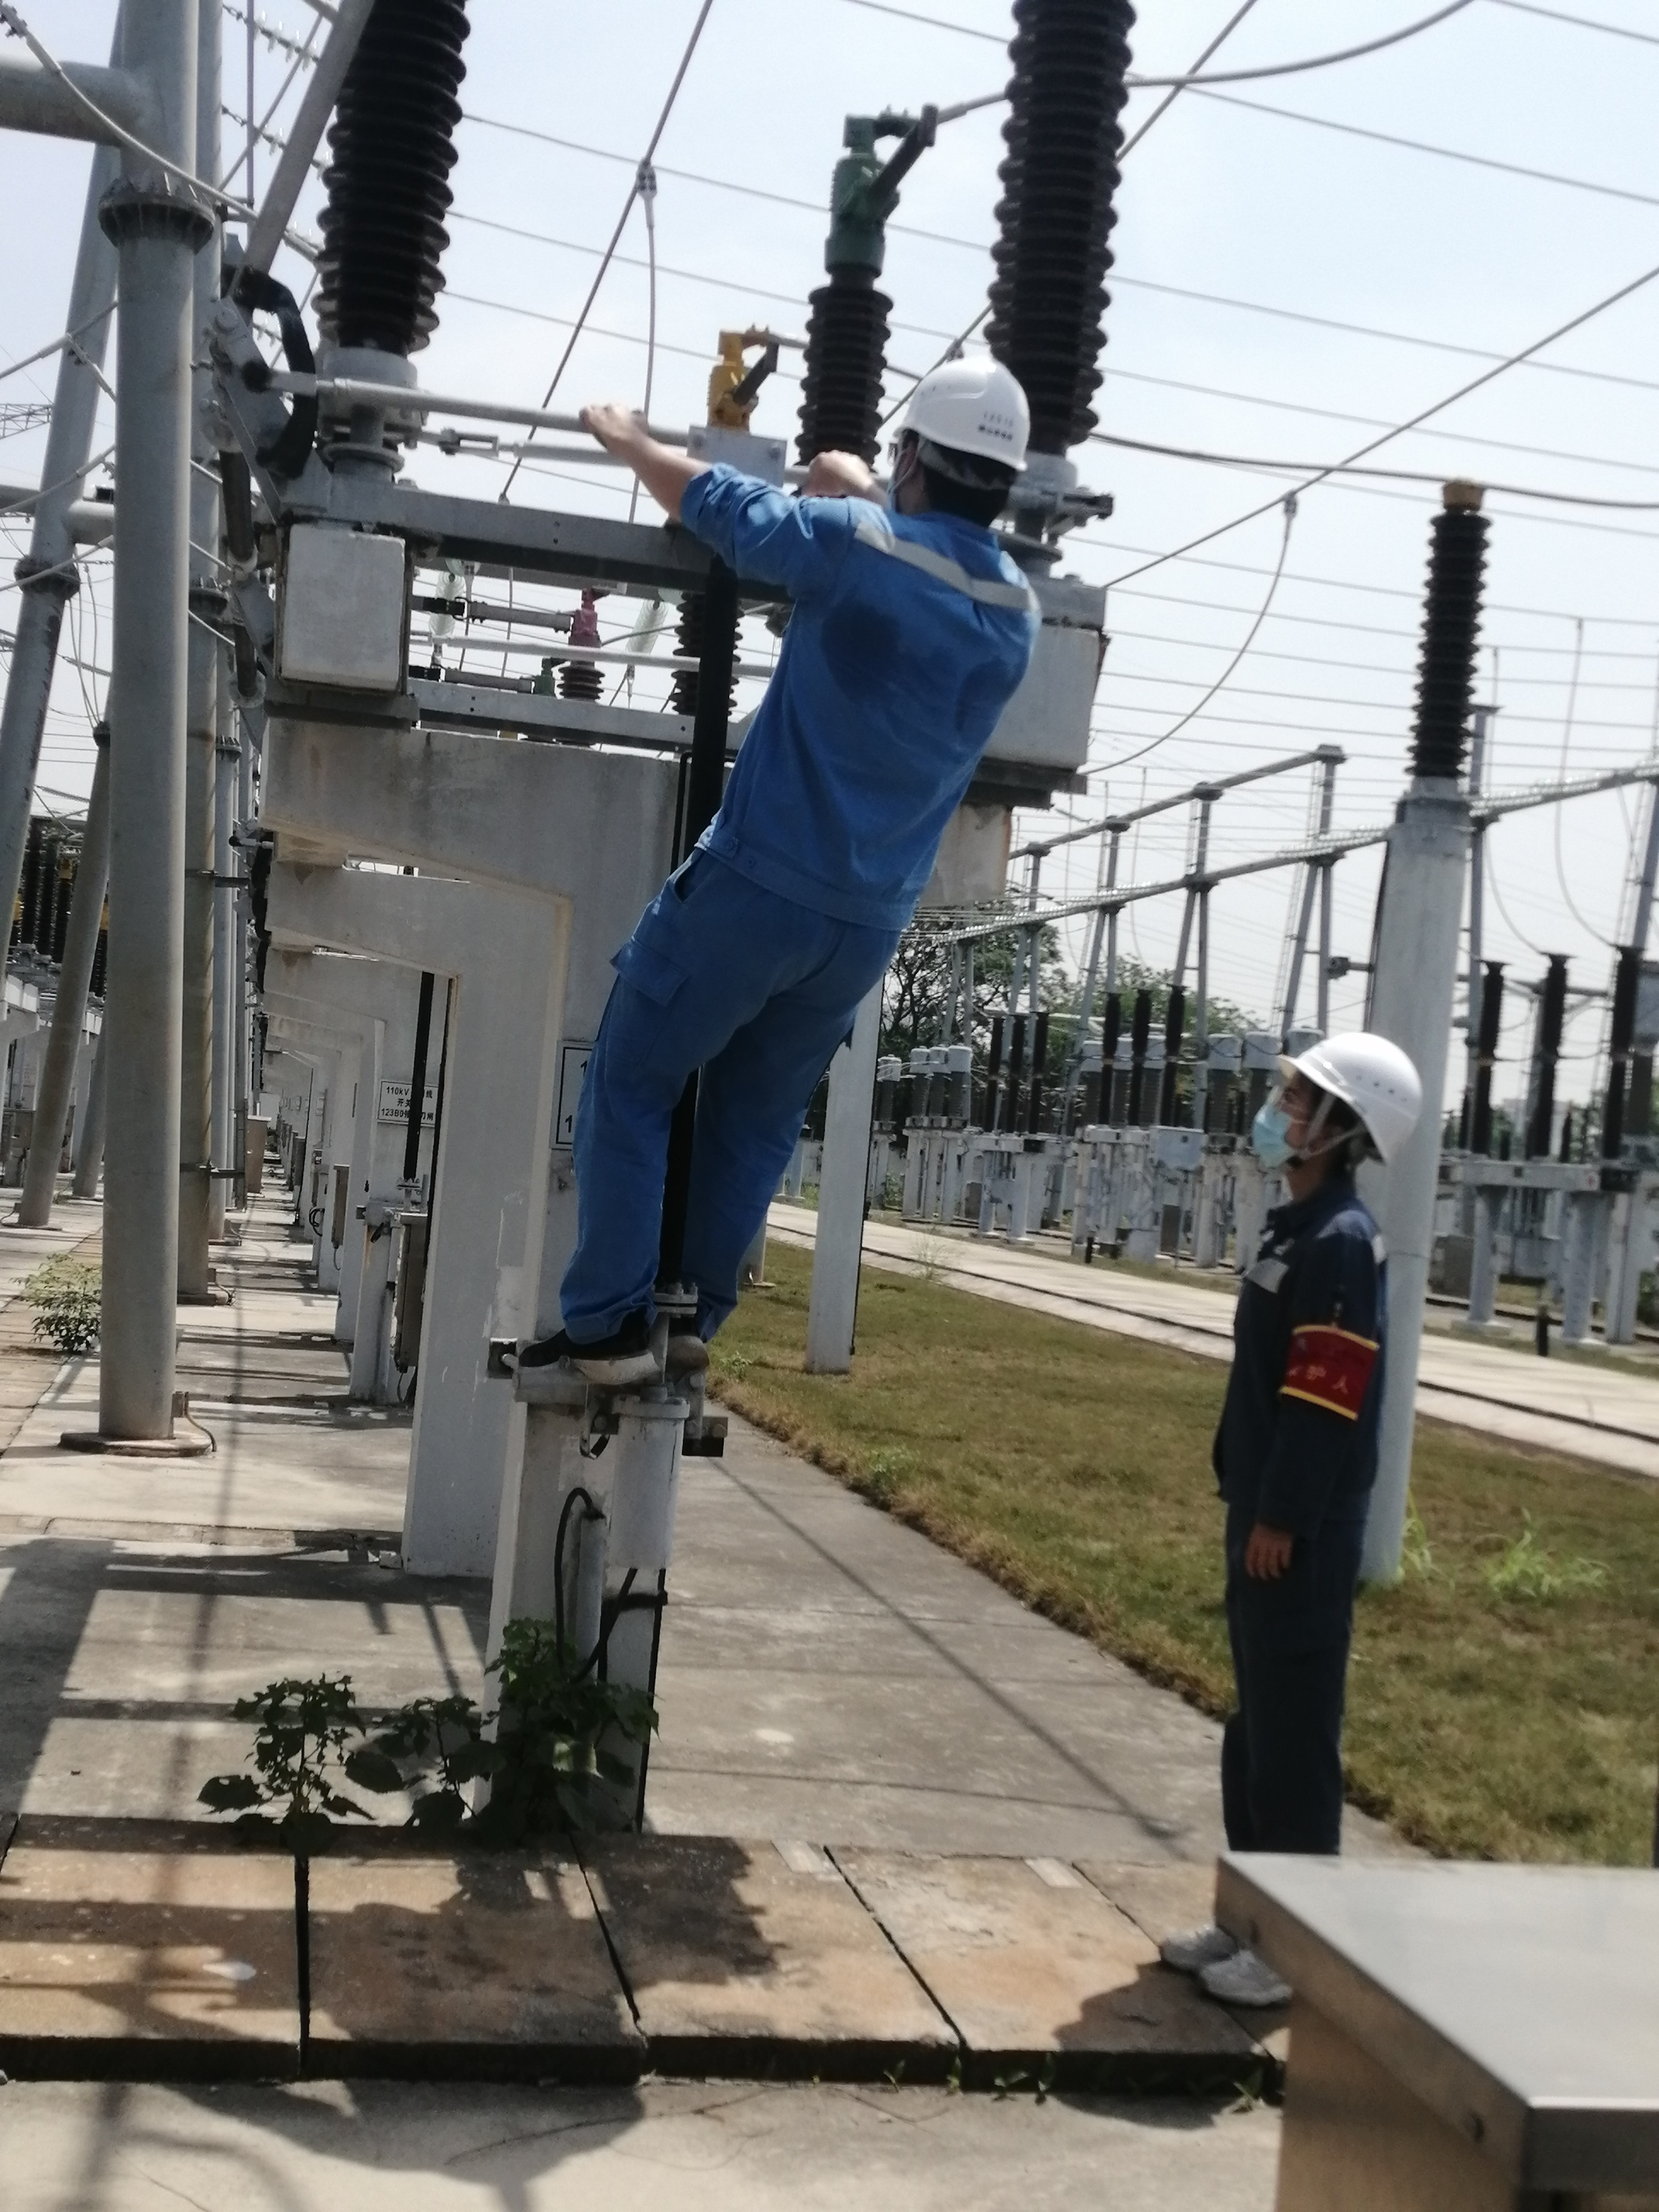badge: (1279, 1322, 1380, 1422)
downsuit: (552, 909, 908, 1336), (1206, 1542, 1367, 1868)
halt: (1250, 1031, 1426, 1182), (884, 358, 1032, 517)
hand: (578, 399, 650, 447), (807, 447, 869, 495), (1243, 1532, 1292, 1583)
person: (565, 355, 1049, 1387), (1193, 1028, 1426, 2009)
upsuit: (685, 494, 1044, 911), (1214, 1184, 1400, 1536)
wrongtop: (576, 396, 732, 532)
